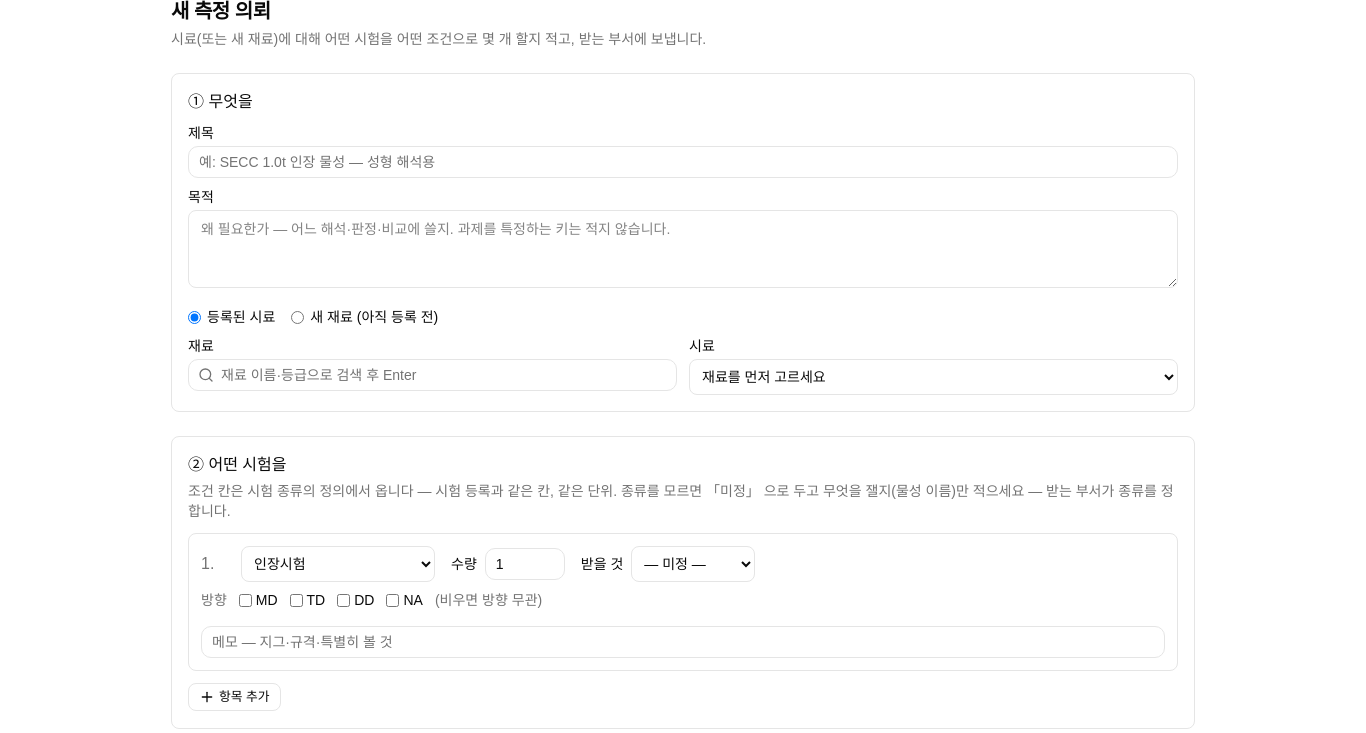
Test: 새 측정 의뢰 › 새 재료로 바꾸면 시료 대신 새 재료가 무엇인지를 묻고, 종류 미정 항목은 물성 이름을 묻는다
Click the radio button labelled "새 재료 (아직 등록 전)": coordinates (298, 317) left=291, top=310, right=304, bottom=324
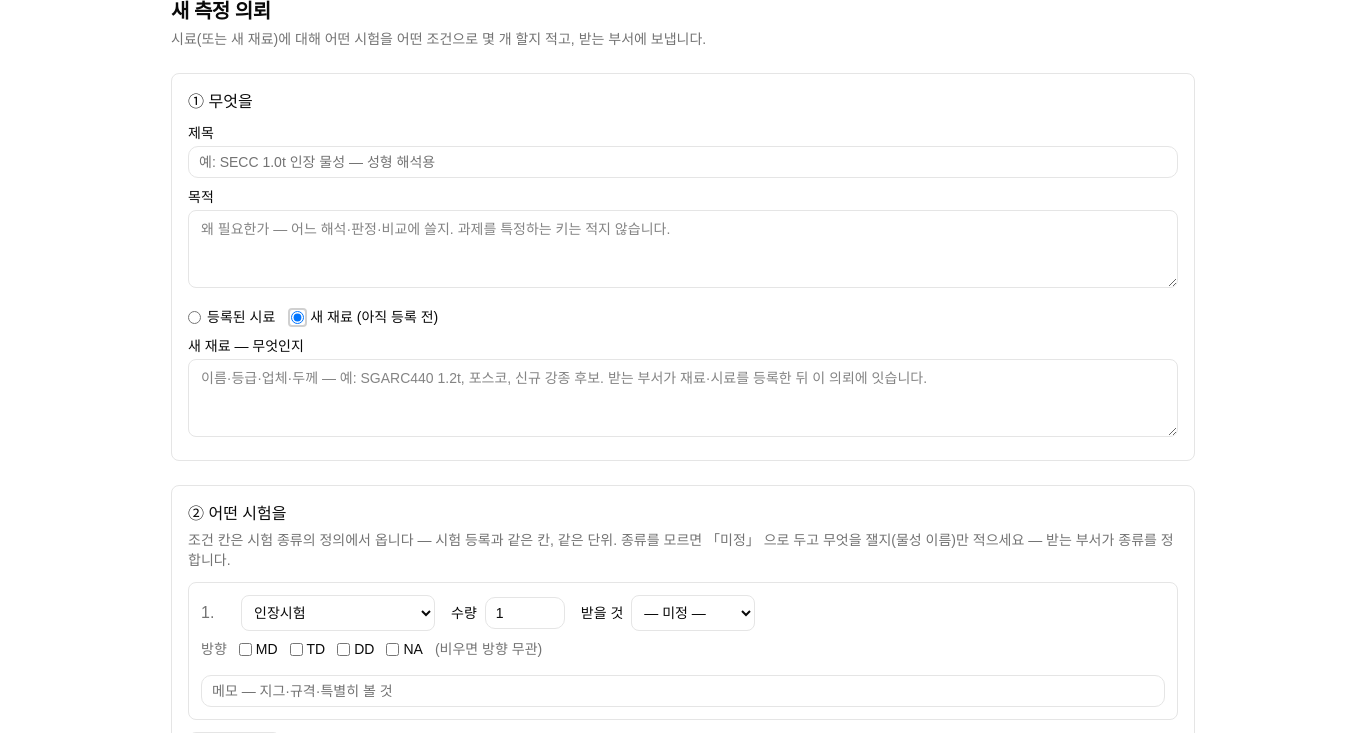
Select "— 미정 (물성 이름으로) —" in the dropdown named "1번 시험 종류": coordinates (338, 613) left=241, top=595, right=435, bottom=631
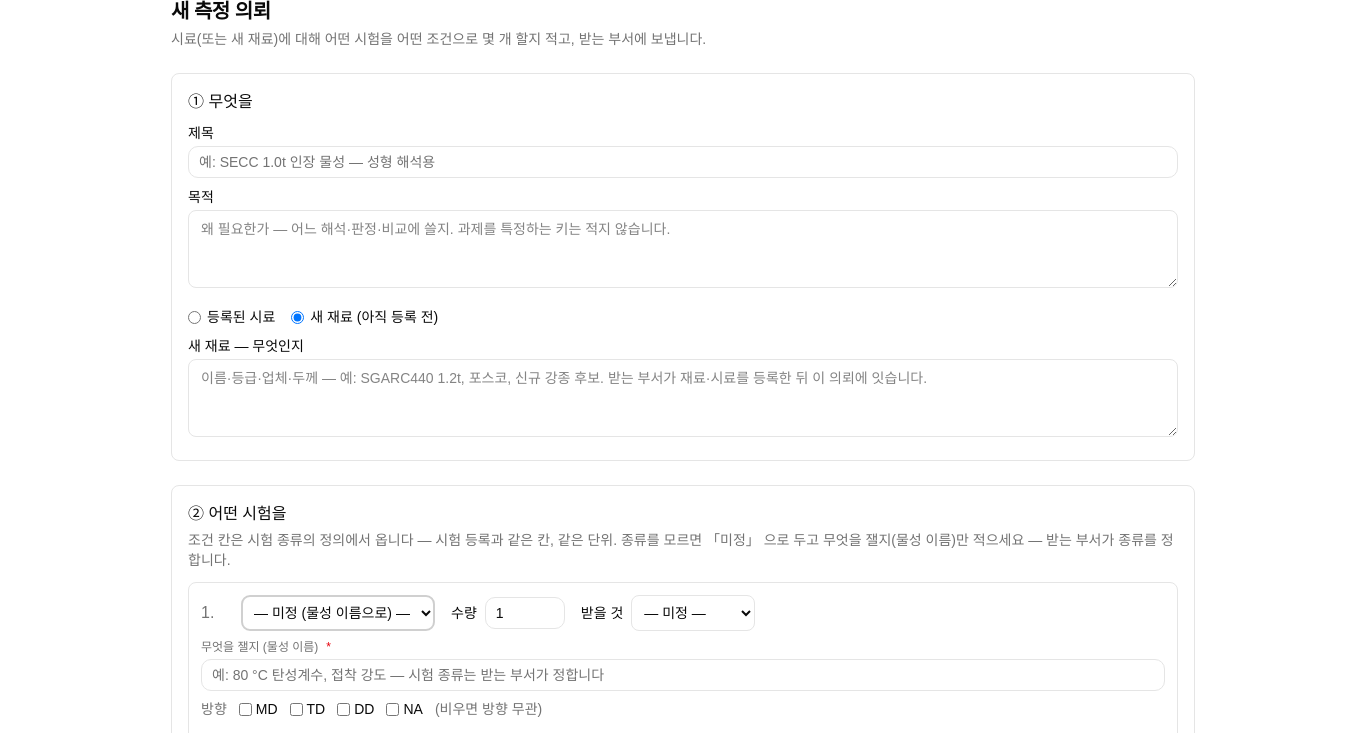
In the field labelled "무엇을 잴지 (물성 이름) *": coordinates (683, 675) left=201, top=659, right=1165, bottom=691, type "80 °C 탄성계수"
// 나머지를 채우면 문구가 사라지고 단추가 열린다.
In the field labelled "제목": coordinates (683, 162) left=188, top=146, right=1178, bottom=178, type "SGARC440 물성"
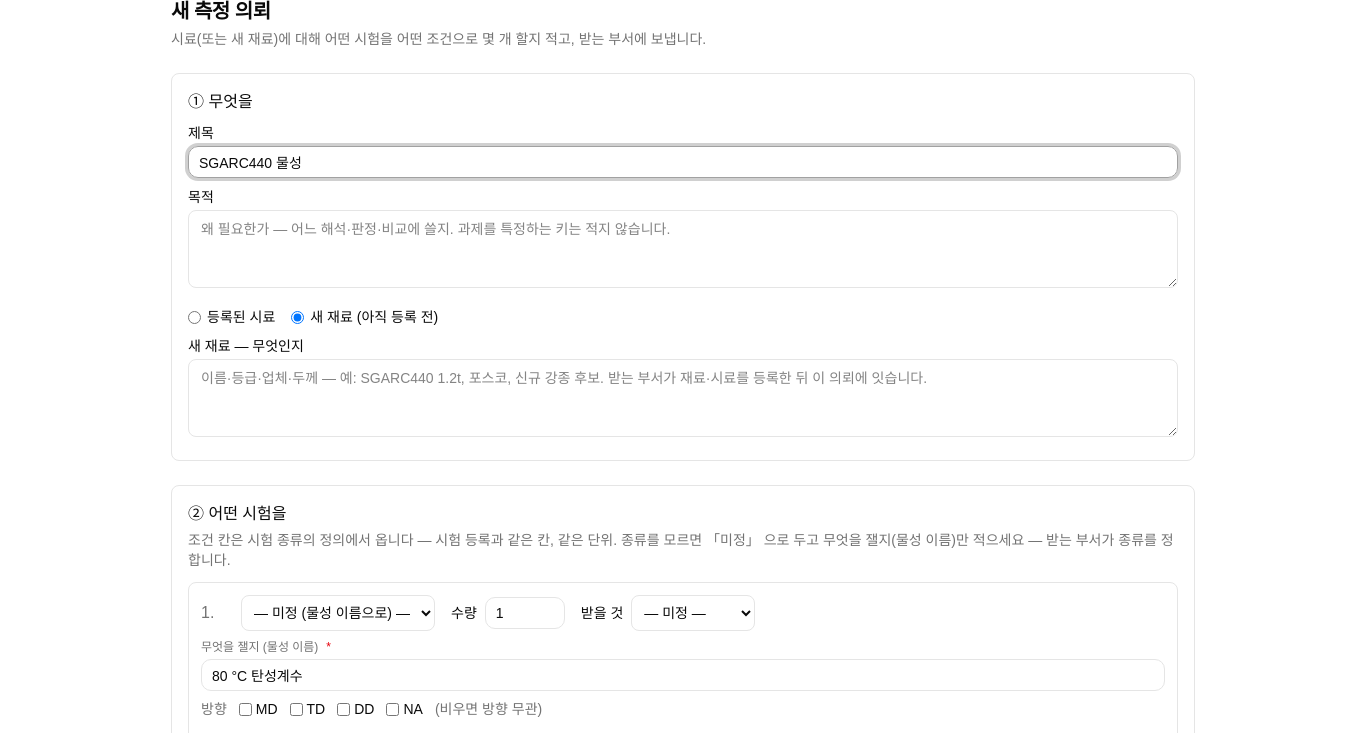
In the text box labelled "목적": coordinates (683, 249) left=188, top=210, right=1178, bottom=288, type "신규 강종 검토"
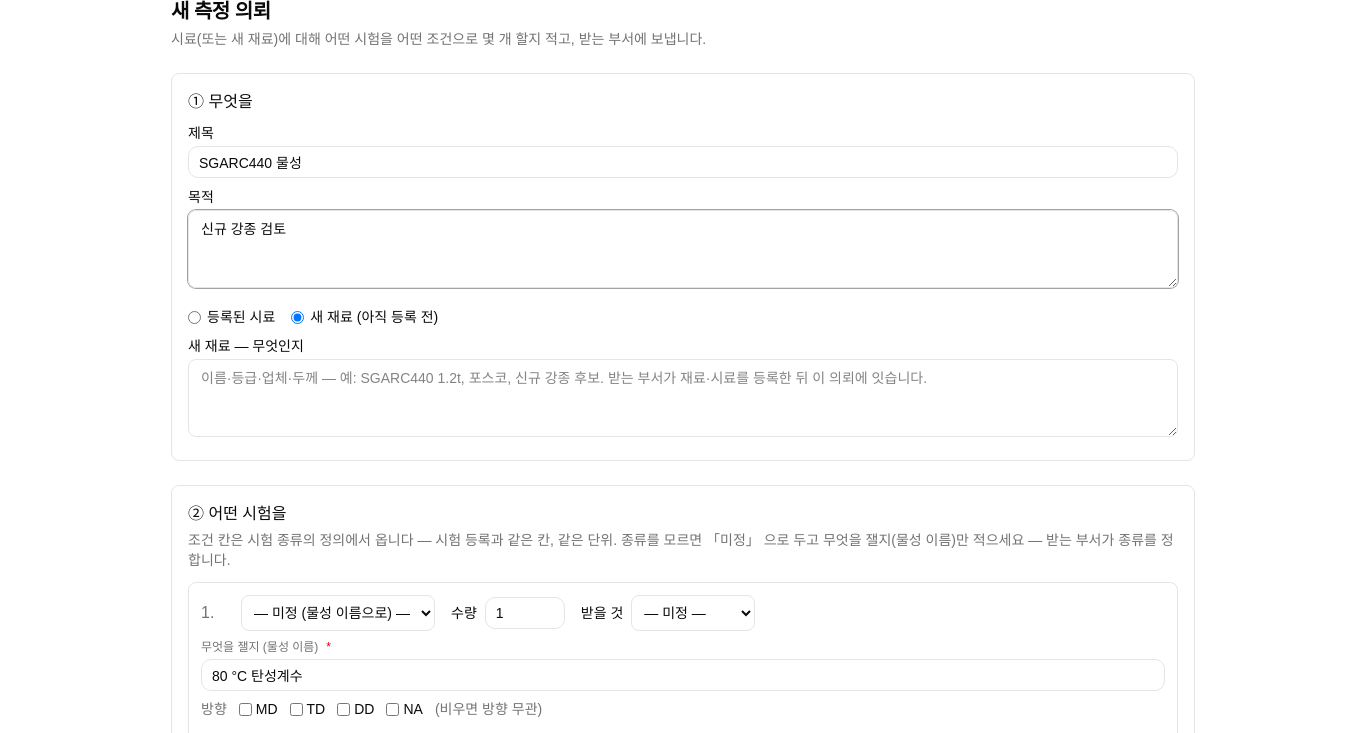
In the text box labelled "새 재료 — 무엇인지": coordinates (683, 398) left=188, top=359, right=1178, bottom=437, type "SGARC440 1.2t, 포스코"
(page scrolled)
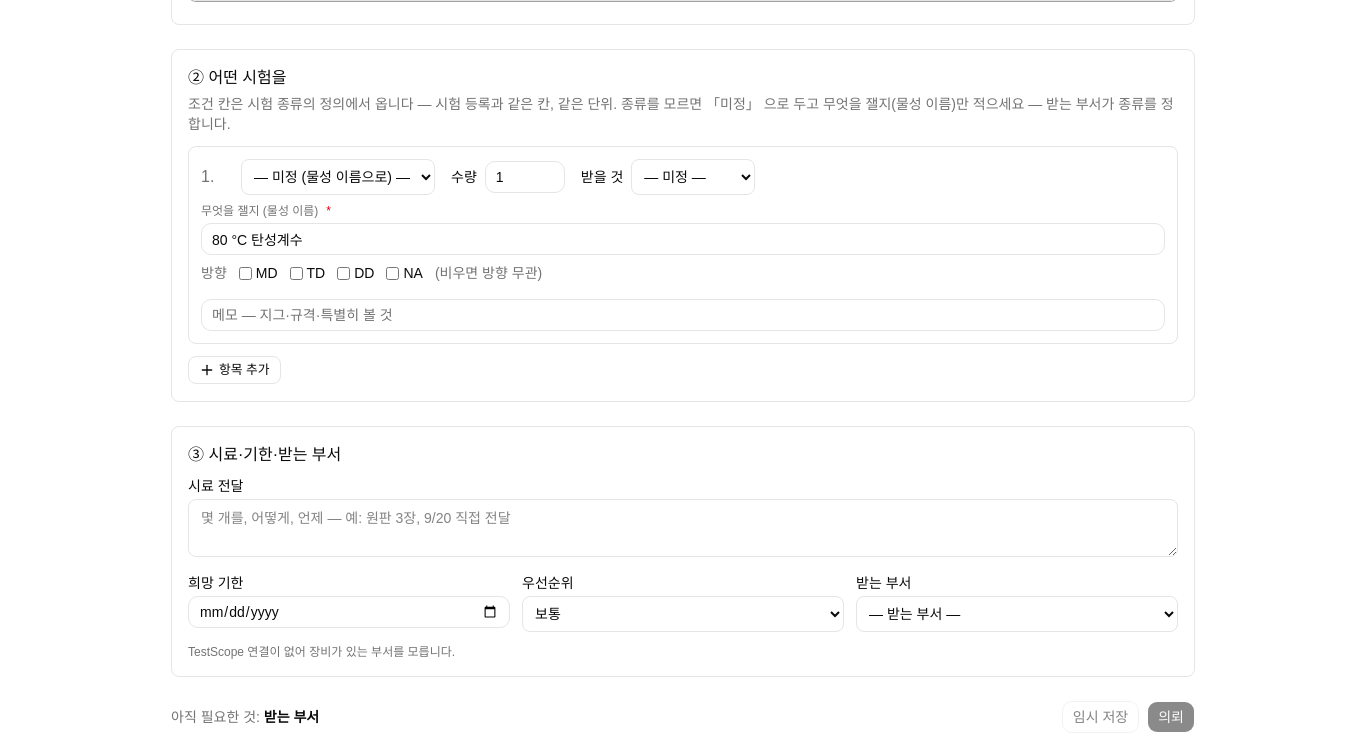
Select "품질센터 / 신뢰성그룹" in the dropdown labelled "받는 부서": coordinates (1017, 614) left=856, top=596, right=1178, bottom=632
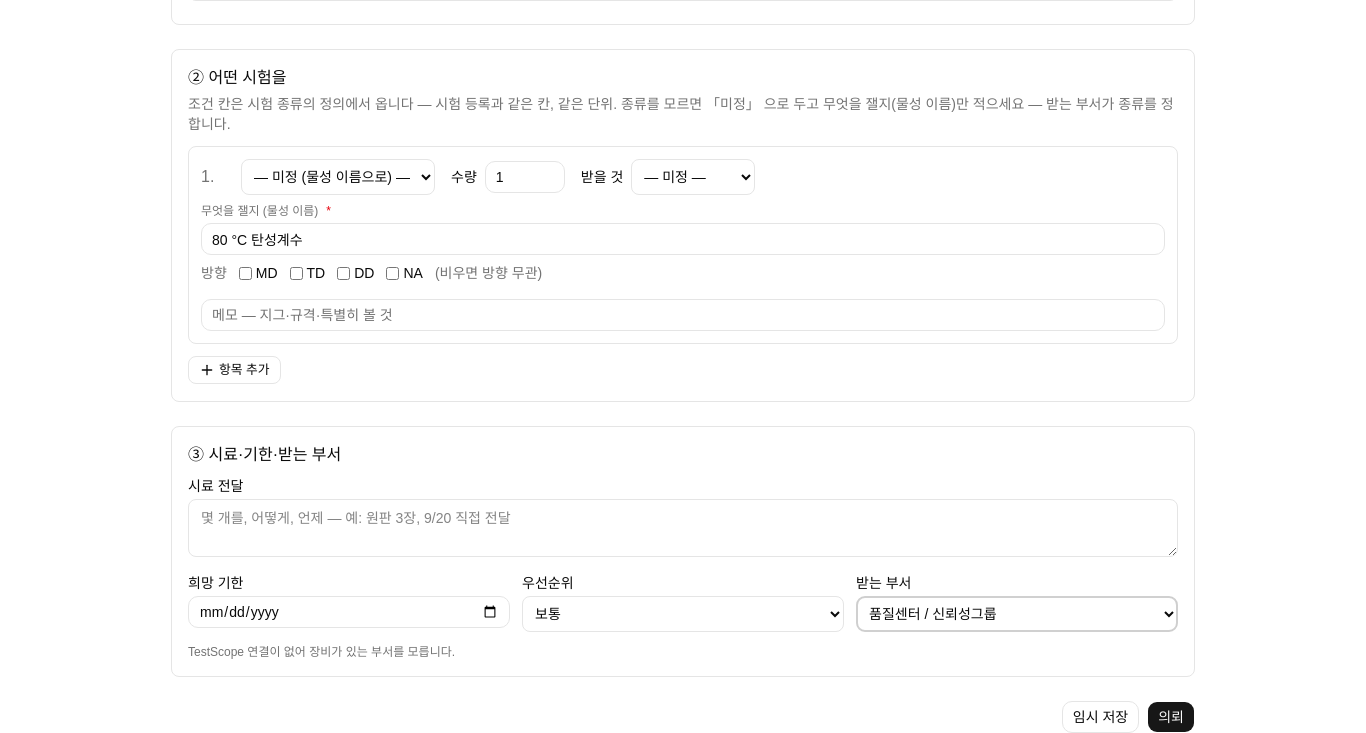
Check: the message "아직 필요한 것: 받는 부서" is gone
Check: the button "의뢰" is enabled, box left=1147, top=701, right=1195, bottom=732
